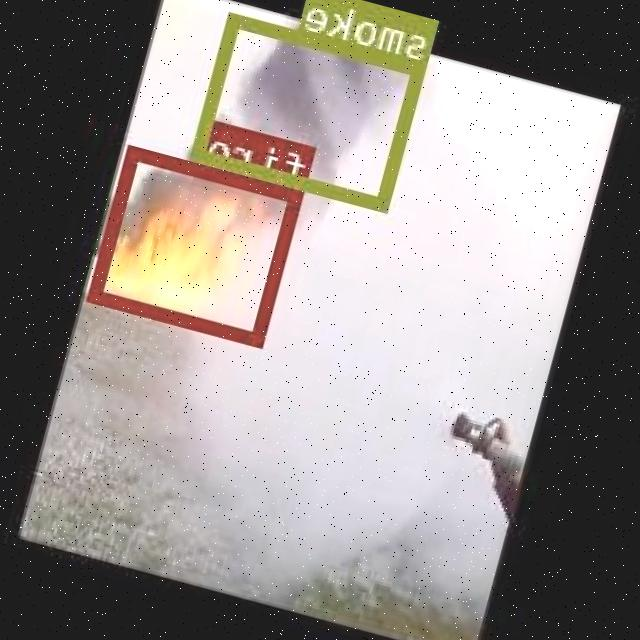fire: (90, 144, 306, 346)
smoke: (194, 12, 428, 209)
